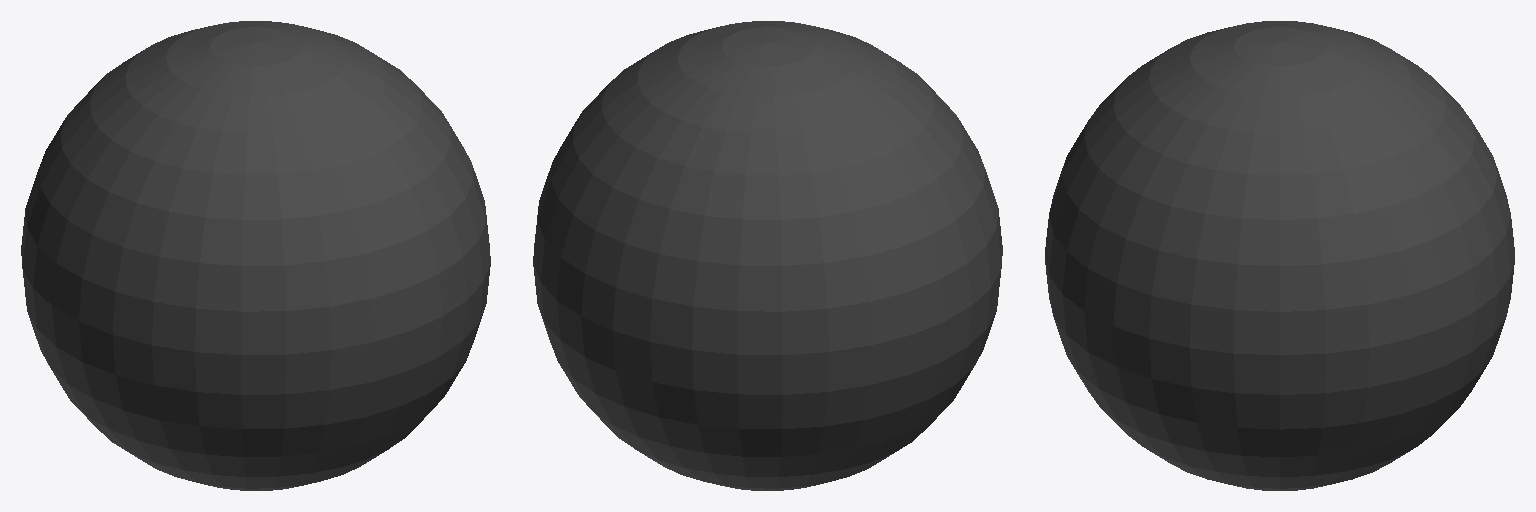
File: glob_blob_character.obj
3 views of the same model, side by side, from view 1: azimuth 30°, elevation 25°; view 2: azimuth 150°, elevation 25°; view 3: azimuth 270°, elevation 25° (orthographic).
Visible parts, largest first — view 1: Character; view 2: Character; view 3: Character.
Boxes of the visible parts, <box> form: Character: <box>21,21,490,490</box>; Character: <box>533,21,1002,490</box>; Character: <box>1045,21,1514,490</box>.
Bounding box in the file's own units: 20.7 × 20.7 × 20.7.